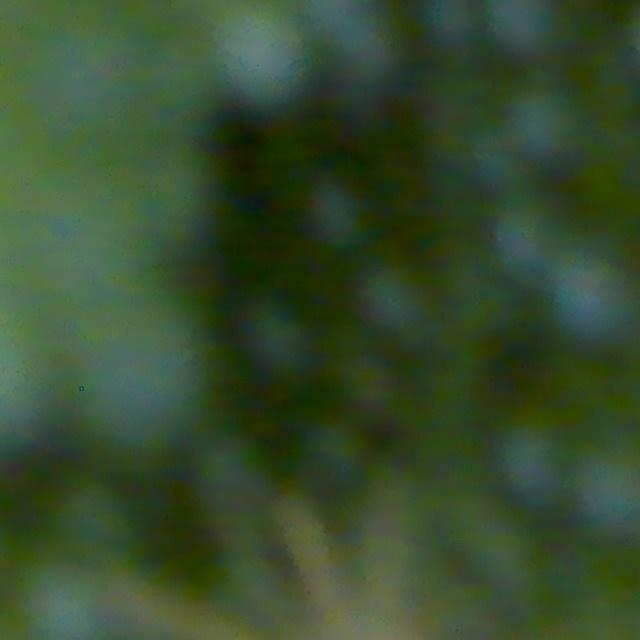SeaGrape: (205, 0, 310, 106), (14, 555, 114, 640), (488, 193, 577, 285), (544, 255, 637, 342), (506, 71, 595, 159), (568, 445, 640, 546), (191, 433, 274, 516), (494, 414, 574, 495), (358, 263, 433, 339), (56, 479, 134, 552), (302, 180, 370, 253), (490, 0, 561, 61), (416, 0, 480, 47)
